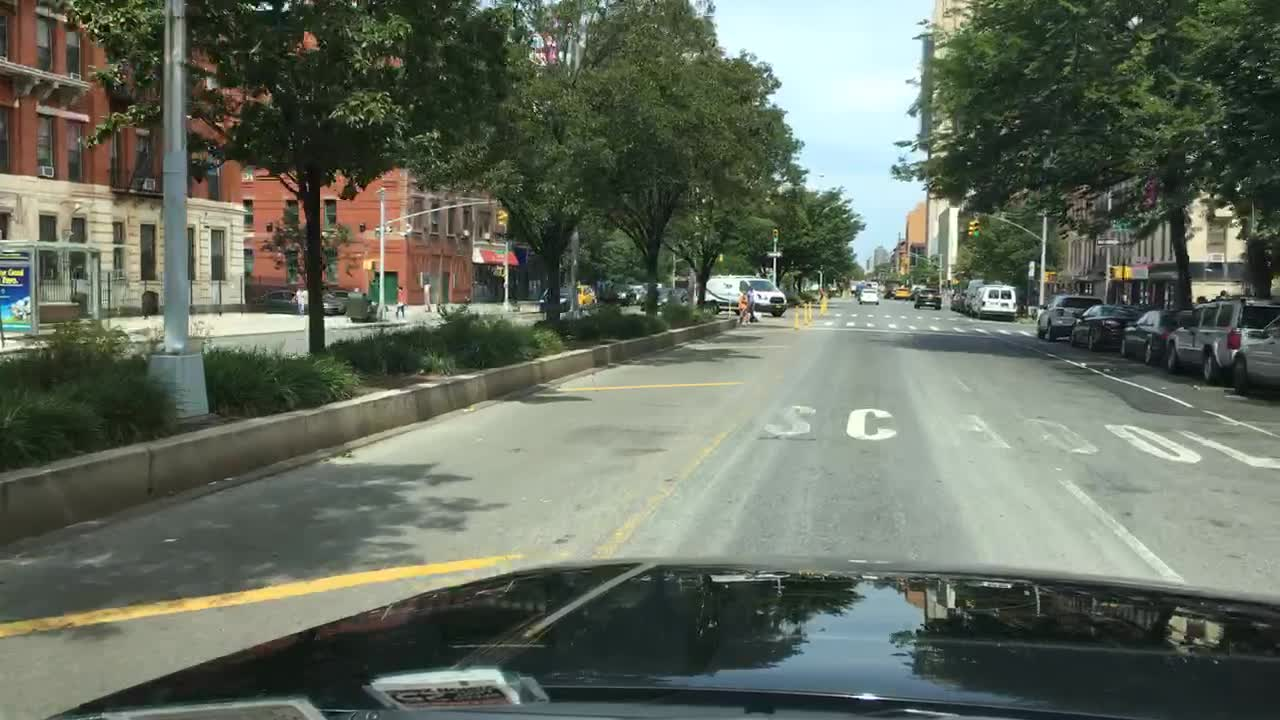car: (1164, 296, 1277, 382), (1117, 305, 1192, 366), (703, 271, 787, 324), (1225, 314, 1278, 397), (1066, 303, 1147, 350), (1035, 292, 1103, 345), (968, 282, 1018, 320), (247, 287, 304, 317), (962, 279, 995, 316), (536, 286, 572, 317), (650, 281, 688, 304), (617, 284, 645, 310), (912, 289, 943, 310), (852, 280, 878, 304), (572, 284, 598, 307), (322, 293, 343, 317), (905, 281, 926, 303), (949, 286, 965, 310), (883, 279, 900, 297), (890, 284, 908, 301), (824, 281, 841, 297), (335, 288, 354, 300), (806, 281, 821, 295), (847, 278, 859, 292)
person: (735, 284, 752, 331), (391, 284, 408, 316), (747, 285, 760, 325), (292, 304, 308, 317)
traffic light: (1113, 265, 1131, 278), (769, 224, 781, 243), (971, 218, 982, 238), (496, 207, 509, 223), (1046, 271, 1059, 284), (964, 220, 974, 235)
traffic sign: (1109, 216, 1136, 231), (1094, 236, 1122, 245), (1131, 266, 1149, 279)
